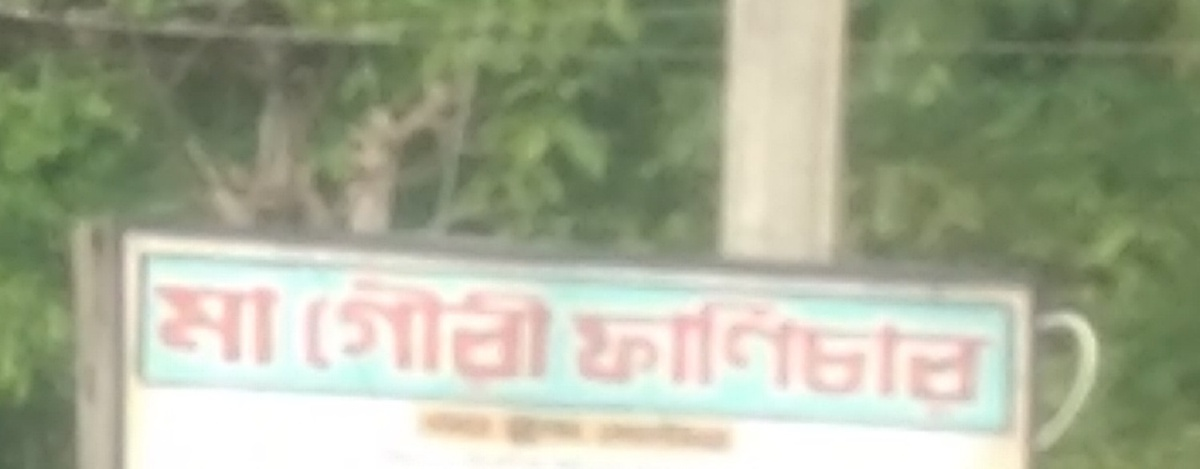text: (577, 289, 592, 425), (593, 289, 608, 425), (609, 289, 624, 425), (625, 289, 640, 425), (641, 289, 656, 425), (657, 289, 672, 425), (673, 289, 688, 425), (689, 289, 704, 425), (705, 289, 720, 425), (721, 289, 736, 425), (737, 289, 752, 425), (753, 289, 768, 425), (769, 289, 784, 425), (785, 289, 800, 425), (801, 289, 816, 425), (817, 289, 832, 425), (833, 289, 848, 425), (849, 289, 864, 425), (865, 289, 880, 425), (881, 289, 896, 425), (897, 289, 912, 425), (913, 289, 928, 425), (929, 289, 944, 425), (945, 289, 960, 425), (961, 289, 976, 425), (977, 289, 992, 425), (305, 273, 320, 400), (321, 273, 336, 400), (337, 273, 352, 400), (353, 273, 368, 400), (369, 273, 384, 400), (385, 273, 400, 400), (401, 273, 416, 400), (417, 273, 432, 400), (433, 273, 448, 400), (449, 273, 464, 400), (465, 273, 480, 400), (481, 273, 496, 400), (497, 273, 512, 400), (513, 273, 528, 400), (529, 273, 544, 400), (545, 273, 557, 400), (565, 289, 576, 425), (161, 278, 176, 368), (177, 278, 192, 368), (193, 278, 208, 368), (209, 278, 224, 368), (225, 278, 240, 368), (241, 278, 256, 368), (257, 278, 272, 368), (481, 409, 497, 450), (153, 278, 160, 368), (273, 278, 280, 368), (433, 409, 448, 450), (449, 409, 464, 450), (465, 409, 480, 450), (513, 412, 528, 453), (529, 412, 544, 453), (545, 412, 560, 453), (561, 412, 576, 453), (721, 417, 737, 454), (593, 417, 608, 454), (609, 417, 624, 454), (625, 417, 640, 454), (641, 417, 656, 454), (657, 417, 672, 454), (673, 417, 688, 454), (689, 417, 704, 454), (705, 417, 720, 454), (993, 289, 997, 425), (577, 412, 590, 453), (421, 409, 432, 450), (501, 412, 512, 453)
